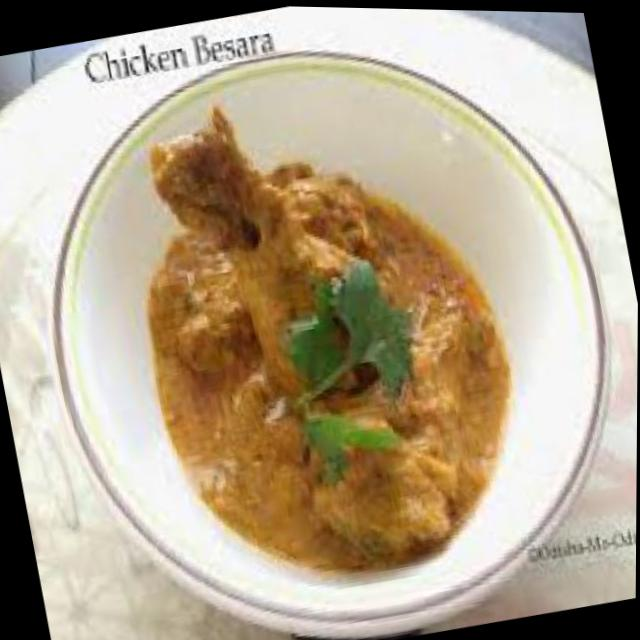CHICKEN CURRY: (146, 109, 515, 571)
